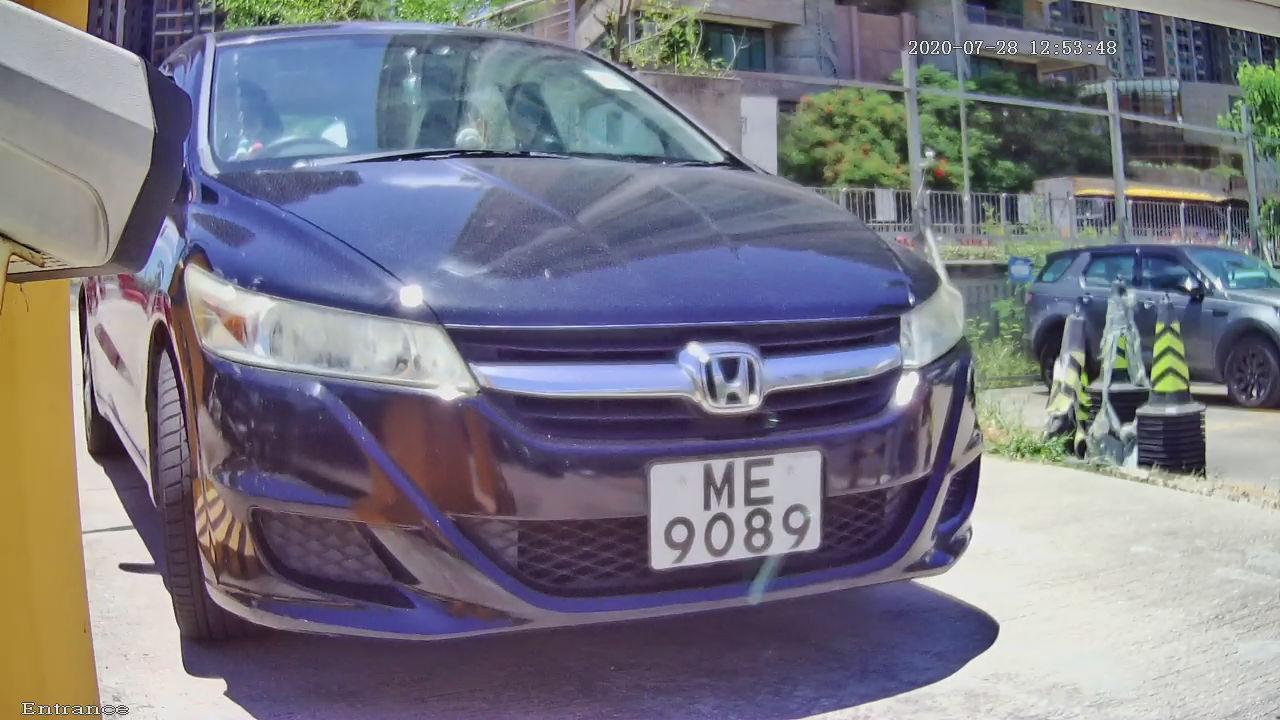privatecar: (23, 17, 1115, 701)
